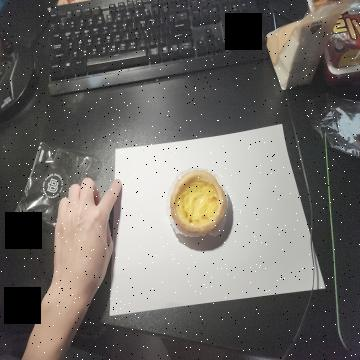EggTart: (169, 168, 226, 238)
